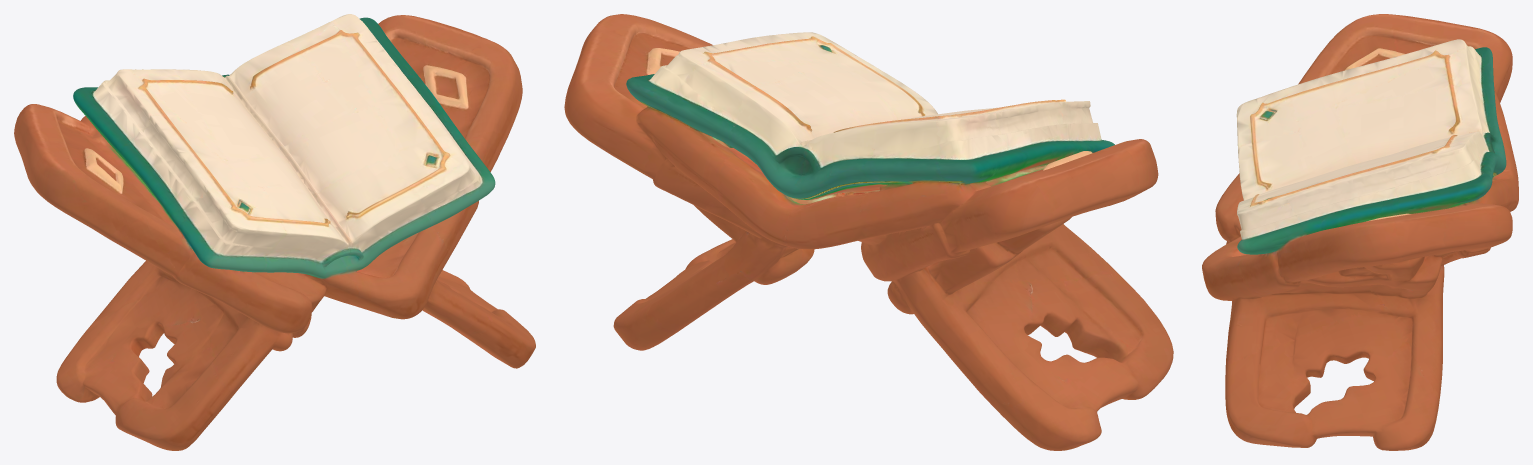
Rendered from tasbih.glb.
3 views of the same model, side by side, from view 1: azimuth 30°, elevation 25°; view 2: azimuth 150°, elevation 25°; view 3: azimuth 270°, elevation 25° (orthographic). The views are drawn at different scales.
Size of the model in its own units: 1.9 by 1.08 by 1.15.
Materials: 1 (1 with a texture image).
